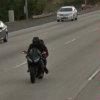Motorcycle: (16, 39, 52, 88)
